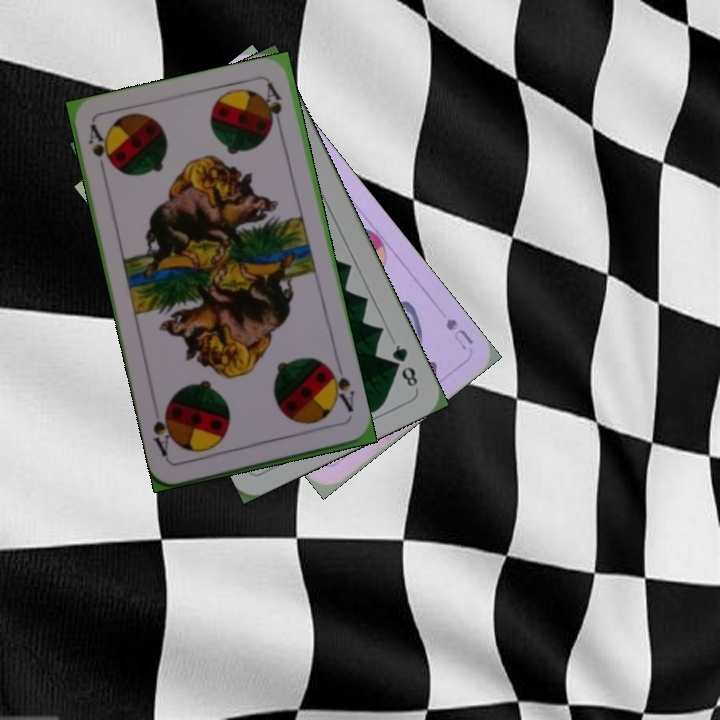G8: (387, 340, 421, 390)
SA: (83, 120, 115, 179), (325, 362, 357, 415)
SU: (441, 314, 476, 353)
